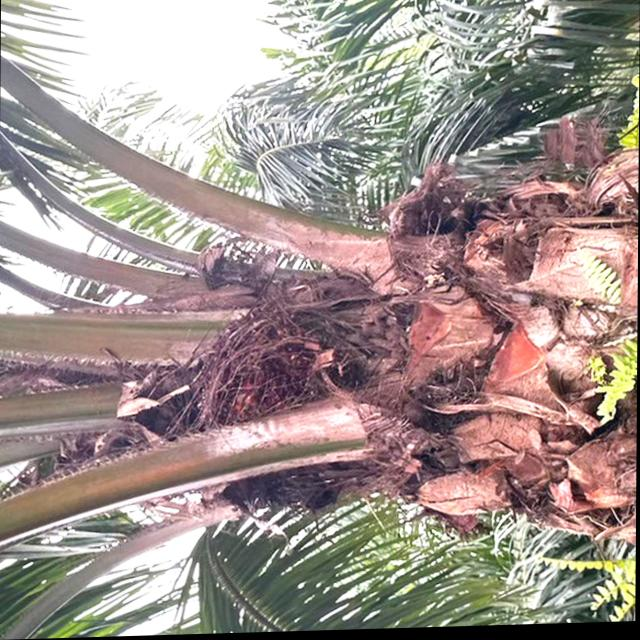ripe: (179, 318, 326, 451)
